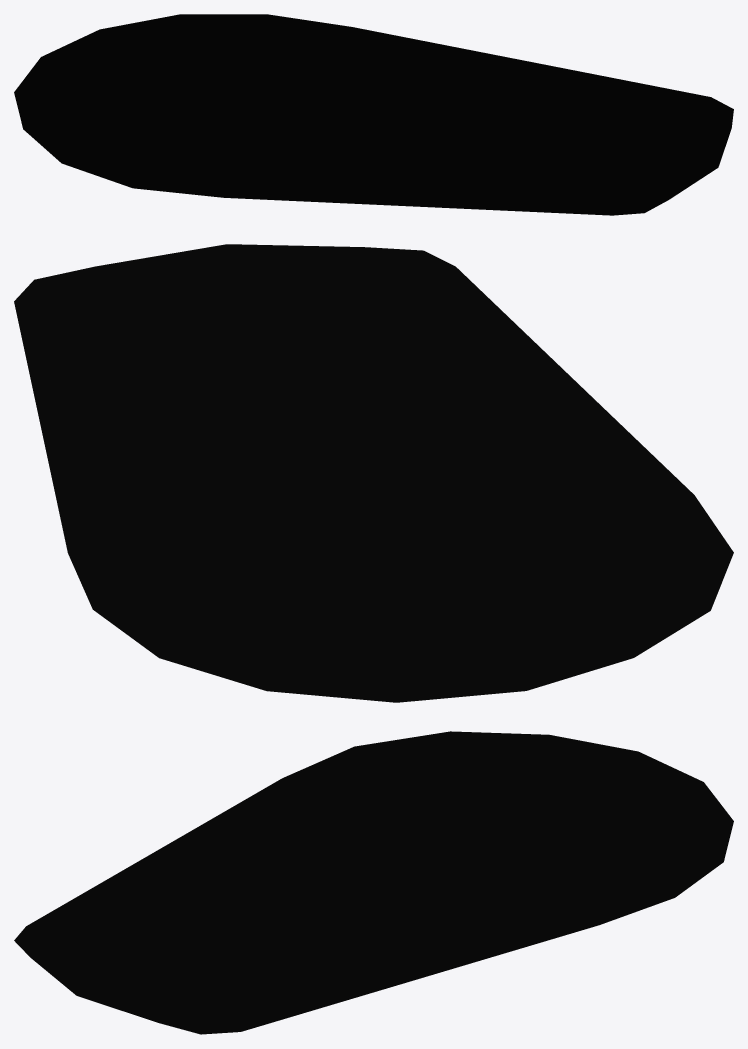
The picture shows the model from 3 angles, top to bottom: view 1: azimuth 30°, elevation 25°; view 2: azimuth 150°, elevation 25°; view 3: azimuth 270°, elevation 25°; orthographic projection. The views are drawn at different scales.
Visible parts, largest first — view 1: Joint_0_Object_0; view 2: Joint_0_Object_0; view 3: Joint_0_Object_0.
Boxes of the visible parts, bbox=[...] form: Joint_0_Object_0: bbox=[14, 14, 733, 215]; Joint_0_Object_0: bbox=[14, 244, 733, 702]; Joint_0_Object_0: bbox=[14, 731, 733, 1034].
Size of the model in its own units: 490 by 0 by 492.
Materials: 1 (1 with a texture image).
